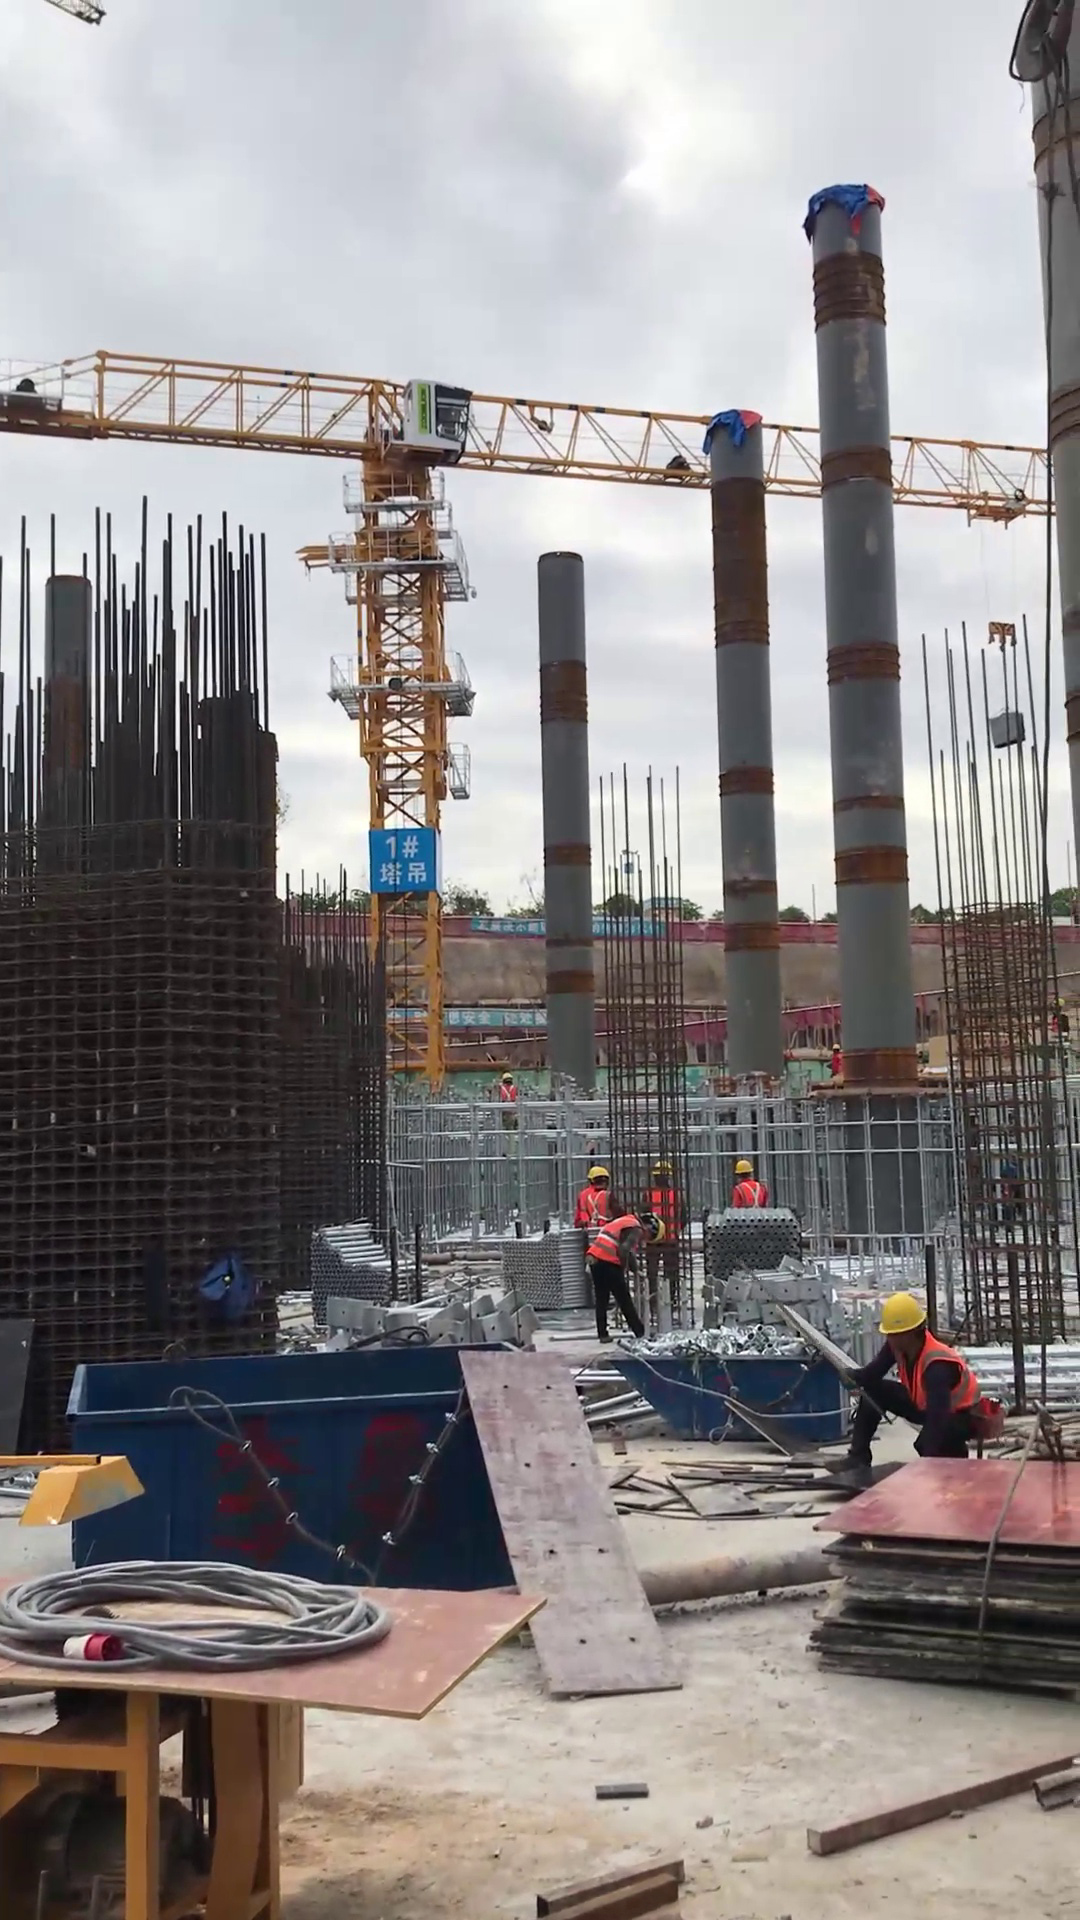board: (799, 1450, 1080, 1713)
cutter: (1, 1548, 561, 1918)
helmet: (870, 1288, 938, 1349), (729, 1159, 762, 1182), (648, 1215, 670, 1248), (584, 1163, 615, 1184), (499, 1070, 519, 1084)
hook: (980, 615, 1023, 660)
hopper: (49, 1348, 566, 1596), (614, 1341, 859, 1460)
person: (832, 1283, 1004, 1488), (582, 1210, 681, 1352), (576, 1160, 621, 1245), (720, 1154, 771, 1223), (489, 1066, 528, 1133)
scaffold: (299, 1218, 418, 1322), (697, 1206, 807, 1289), (494, 1232, 594, 1317)
slogan: (441, 1006, 548, 1029), (468, 915, 546, 936)
vest: (881, 1330, 998, 1438), (587, 1210, 647, 1279), (576, 1182, 619, 1243), (726, 1179, 771, 1215), (495, 1079, 522, 1122)
